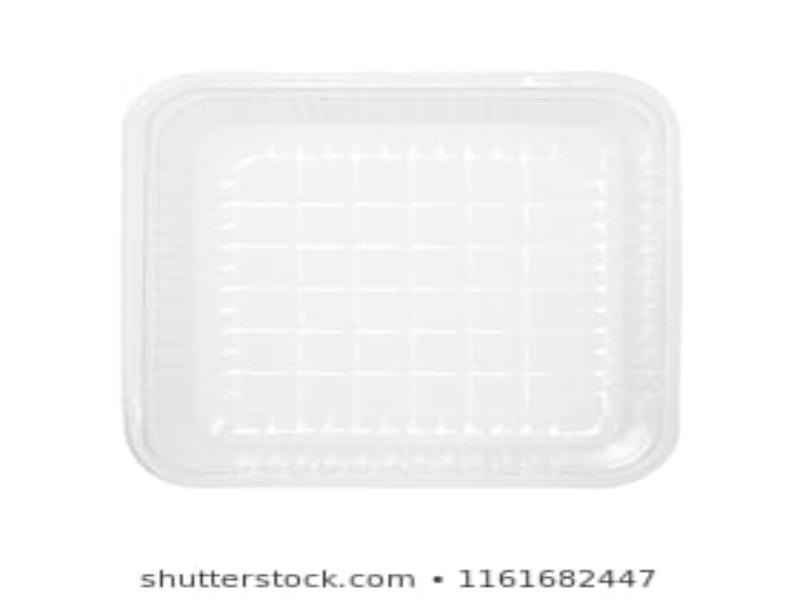plastic-tray: (116, 71, 678, 490)
